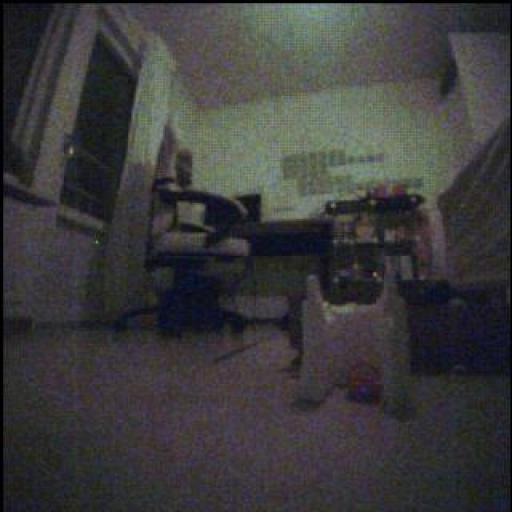basket: (349, 363, 384, 404)
